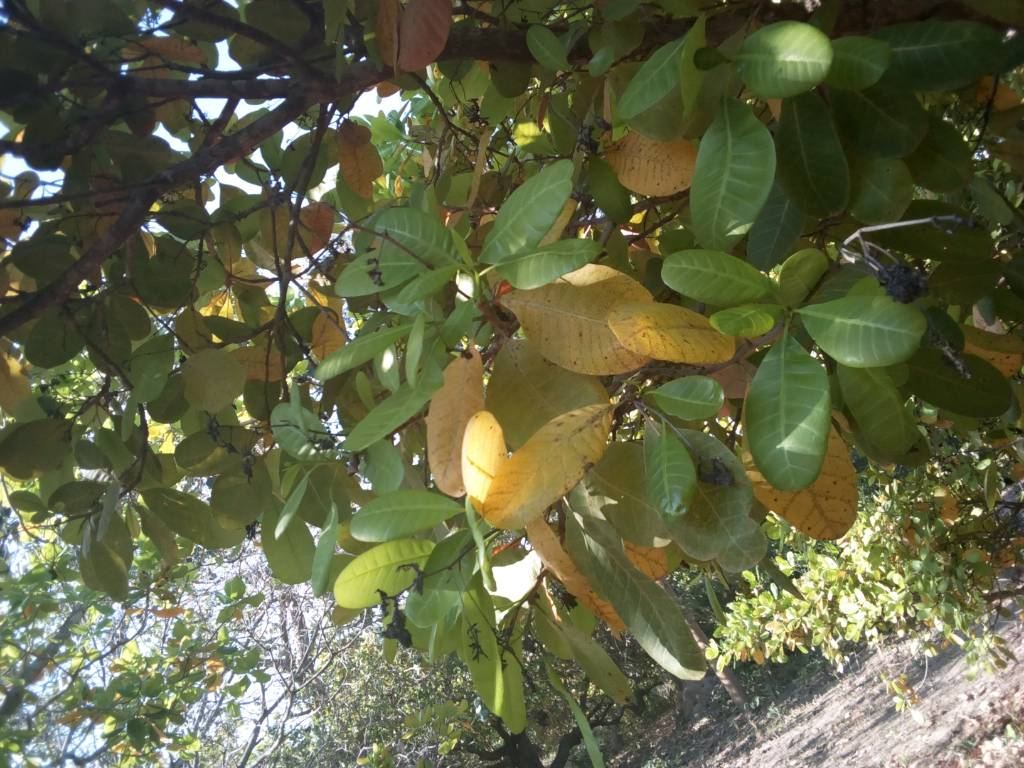Dessèchement des bourgeons: (868, 211, 990, 305), (453, 615, 540, 694), (374, 564, 430, 656), (37, 373, 107, 444), (197, 416, 267, 476), (1, 515, 65, 578), (695, 449, 736, 489), (365, 244, 383, 286), (558, 590, 582, 611)
